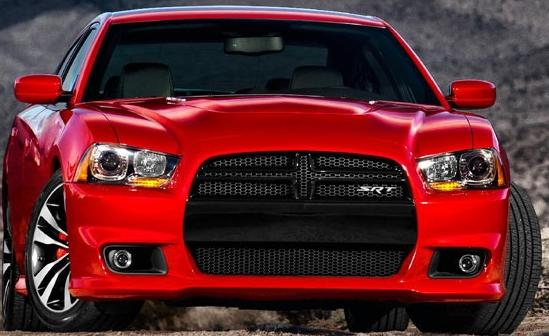front_view: (73, 118, 533, 302)
headlight: (401, 134, 533, 209)
